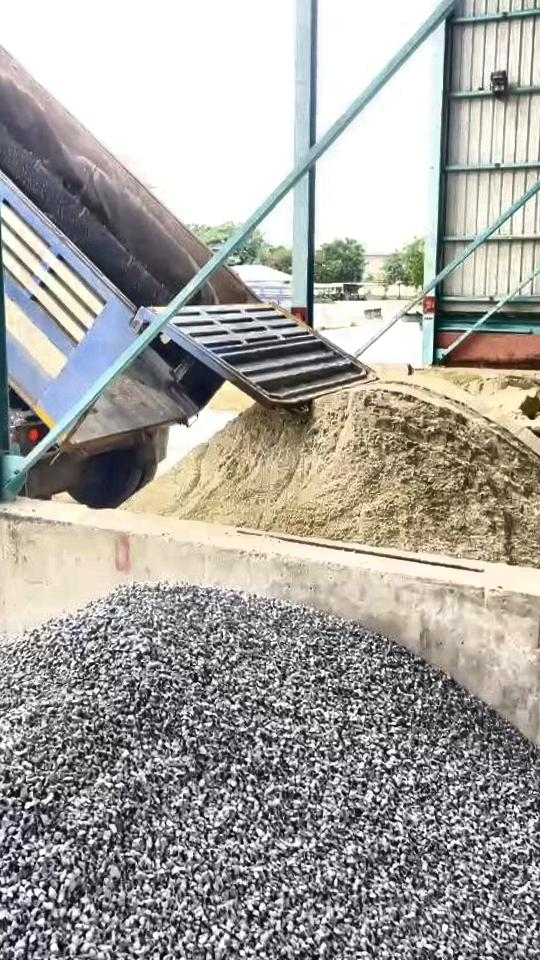gravel: (0, 584, 540, 960)
sand: (125, 382, 540, 568), (436, 369, 540, 421)
